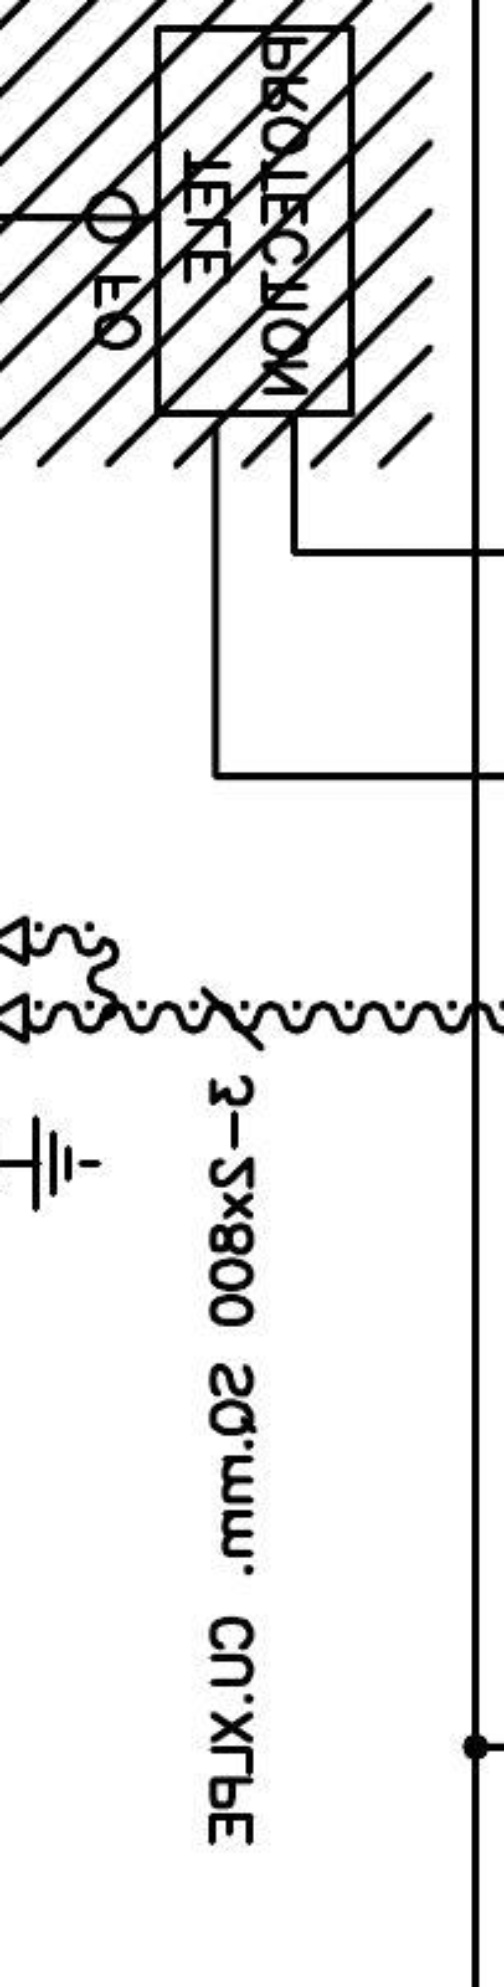tele_protection: (147, 18, 362, 423)
